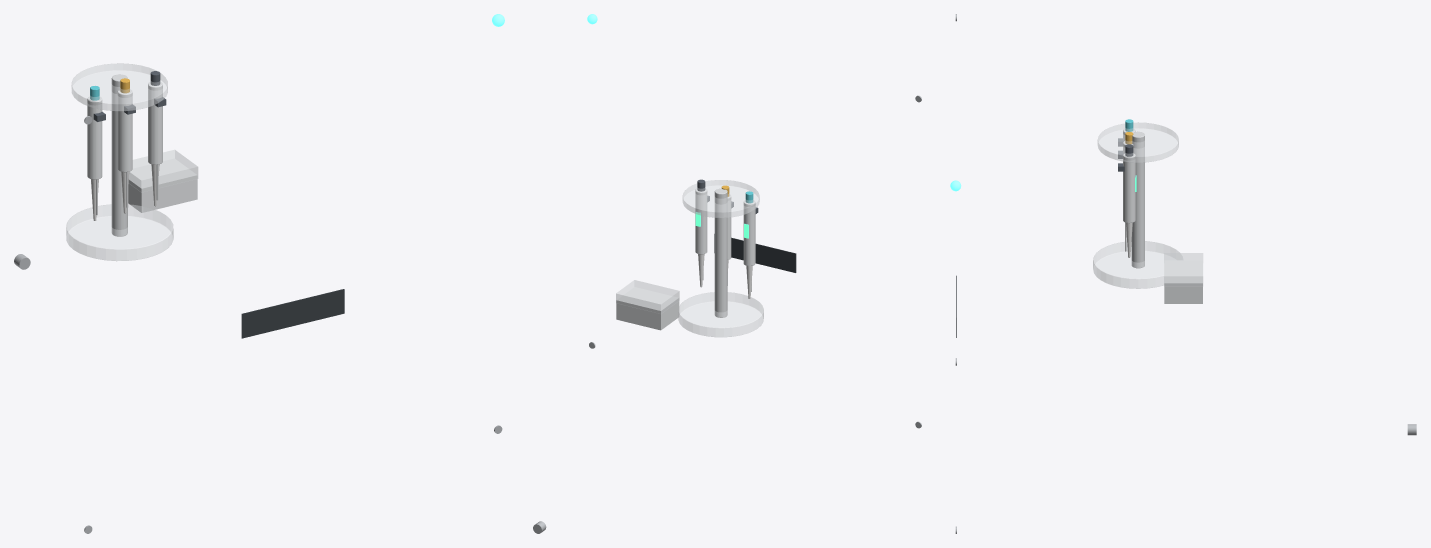
The model's file is SM_Micropipette_Set.glb.
The picture shows the model from 3 angles, left to right: view 1: azimuth 30°, elevation 25°; view 2: azimuth 150°, elevation 25°; view 3: azimuth 270°, elevation 25°; orthographic projection. The views are drawn at different scales.
Parts seen in each view (by area): view 1: PipetteStand_Base, PipetteStand_HangerHead, TipBox_Housing, Detail_RatingPlate, TipBox_TransparentLid, PipetteStand_CentralShaft, Pipette_P200_Handle, Pipette_P1000_Handle, Pipette_P20_Handle; view 2: PipetteStand_Base, PipetteStand_HangerHead, TipBox_Housing, PipetteStand_CentralShaft, TipBox_TransparentLid, Detail_RatingPlate, Pipette_P20_Handle, Pipette_P1000_Handle; view 3: PipetteStand_Base, PipetteStand_HangerHead, TipBox_Housing, PipetteStand_CentralShaft, TipBox_TransparentLid, Pipette_P20_Handle.
Part boxes in pixels (left/top/right/bottom): PipetteStand_Base: left=66, top=204, right=173, bottom=261; PipetteStand_HangerHead: left=71, top=63, right=167, bottom=111; TipBox_Housing: left=128, top=158, right=197, bottom=212; Detail_RatingPlate: left=241, top=289, right=344, bottom=338; TipBox_TransparentLid: left=129, top=149, right=198, bottom=192; PipetteStand_CentralShaft: left=111, top=74, right=127, bottom=236; Pipette_P200_Handle: left=117, top=89, right=132, bottom=172; Pipette_P1000_Handle: left=87, top=96, right=102, bottom=179; Pipette_P20_Handle: left=148, top=82, right=162, bottom=164; PipetteStand_Base: left=678, top=292, right=763, bottom=337; PipetteStand_HangerHead: left=682, top=180, right=759, bottom=217; TipBox_Housing: left=616, top=287, right=679, bottom=330; PipetteStand_CentralShaft: left=714, top=188, right=727, bottom=317; TipBox_TransparentLid: left=616, top=280, right=679, bottom=313; Detail_RatingPlate: left=714, top=234, right=796, bottom=272; Pipette_P20_Handle: left=695, top=188, right=707, bottom=254; Pipette_P1000_Handle: left=743, top=200, right=755, bottom=265; PipetteStand_Base: left=1093, top=241, right=1182, bottom=288; PipetteStand_HangerHead: left=1097, top=122, right=1178, bottom=162; TipBox_Housing: left=1164, top=260, right=1202, bottom=303; PipetteStand_CentralShaft: left=1131, top=131, right=1144, bottom=268; TipBox_TransparentLid: left=1164, top=253, right=1203, bottom=286; Pipette_P20_Handle: left=1123, top=153, right=1135, bottom=223.
Bounding box in the file's own units: 0.9 × 0.86 × 1.03.
